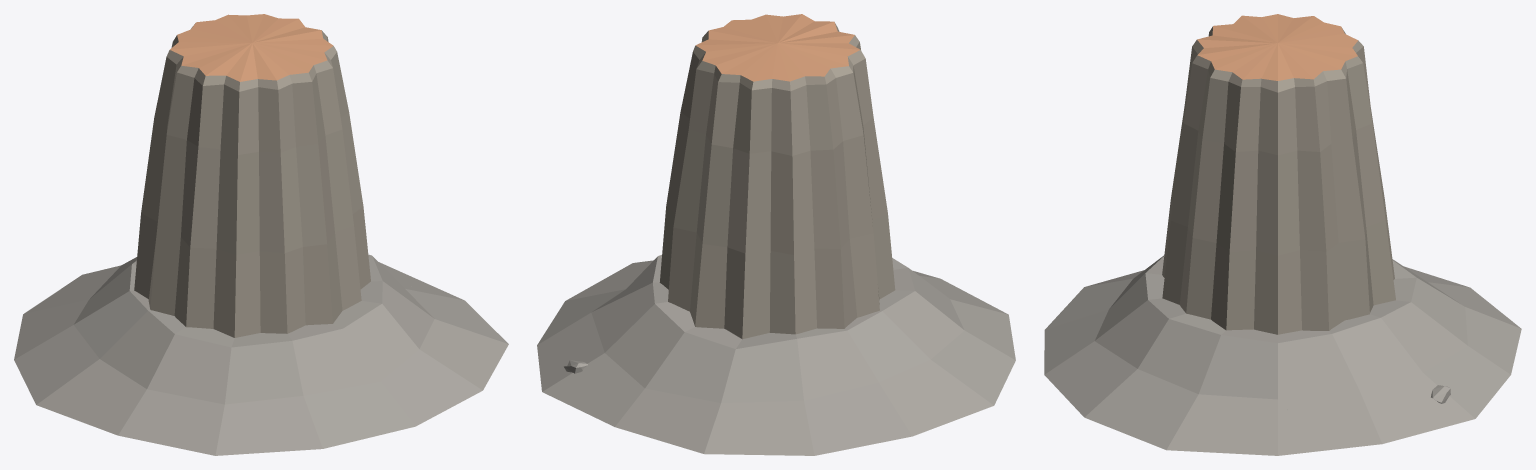
The model's file is devils_tower.glb.
The picture shows the model from 3 angles, left to right: view 1: azimuth 30°, elevation 25°; view 2: azimuth 150°, elevation 25°; view 3: azimuth 270°, elevation 25°; orthographic projection.
Visible parts, largest first — view 1: devils_tower; view 2: devils_tower; view 3: devils_tower.
Part boxes in pixels (box(x1,y1,x2,y2)): devils_tower: box(14, 14, 508, 455); devils_tower: box(537, 14, 1015, 455); devils_tower: box(1044, 14, 1521, 455).
Size of the model in its own units: 37.7 by 26 by 36.39.
